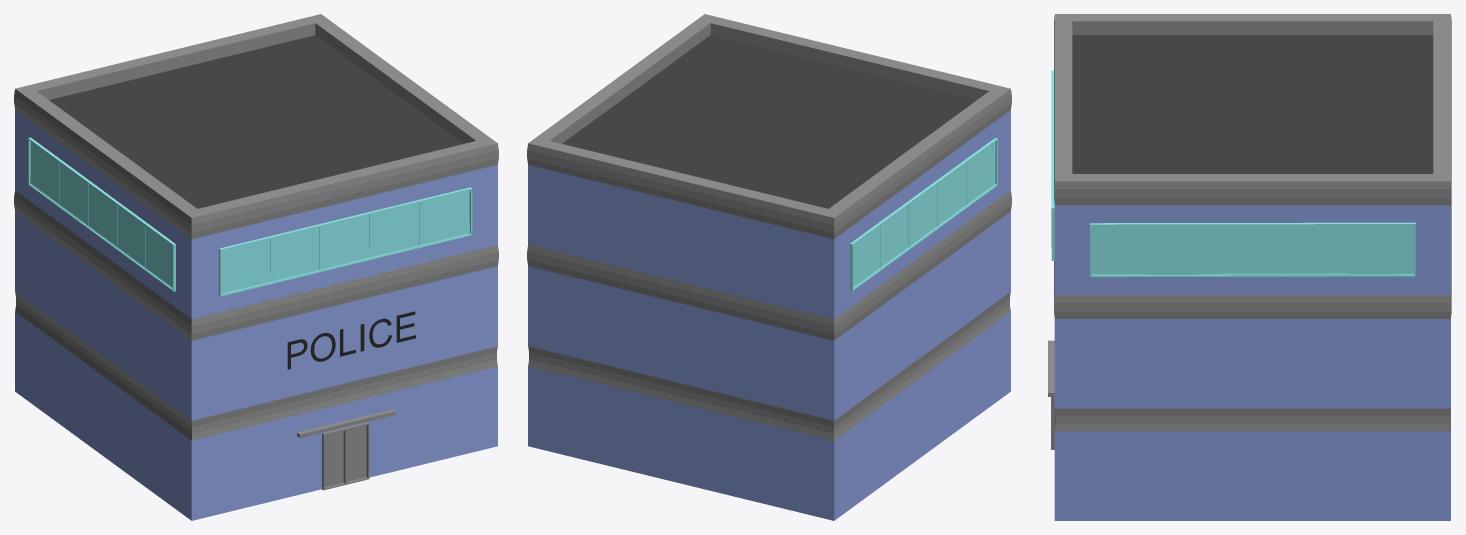
Rendered from Police Station.FBX.
The picture shows the model from 3 angles, left to right: view 1: azimuth 30°, elevation 25°; view 2: azimuth 150°, elevation 25°; view 3: azimuth 270°, elevation 25°; orthographic projection. The views are drawn at different scales.
Parts seen in each view (by area): view 1: Box001, AwningWindow001, AwningWindow002, Box003, Box002, Police, Box004; view 2: Box001, AwningWindow002; view 3: Box001, AwningWindow003, AwningWindow001.
Part boxes in pixels (<box>): Box001: <box>14,14,498,520</box>; AwningWindow001: <box>219,187,472,296</box>; AwningWindow002: <box>28,137,175,291</box>; Box003: <box>322,427,346,490</box>; Box002: <box>345,422,369,484</box>; Police: <box>287,311,415,369</box>; Box004: <box>297,409,395,437</box>; Box001: <box>527,14,1011,520</box>; AwningWindow002: <box>850,138,997,291</box>; Box001: <box>1054,14,1451,520</box>; AwningWindow003: <box>1090,222,1415,277</box>; AwningWindow001: <box>1051,70,1054,260</box>.
Size of the model in its own units: 488 by 454 by 499.
